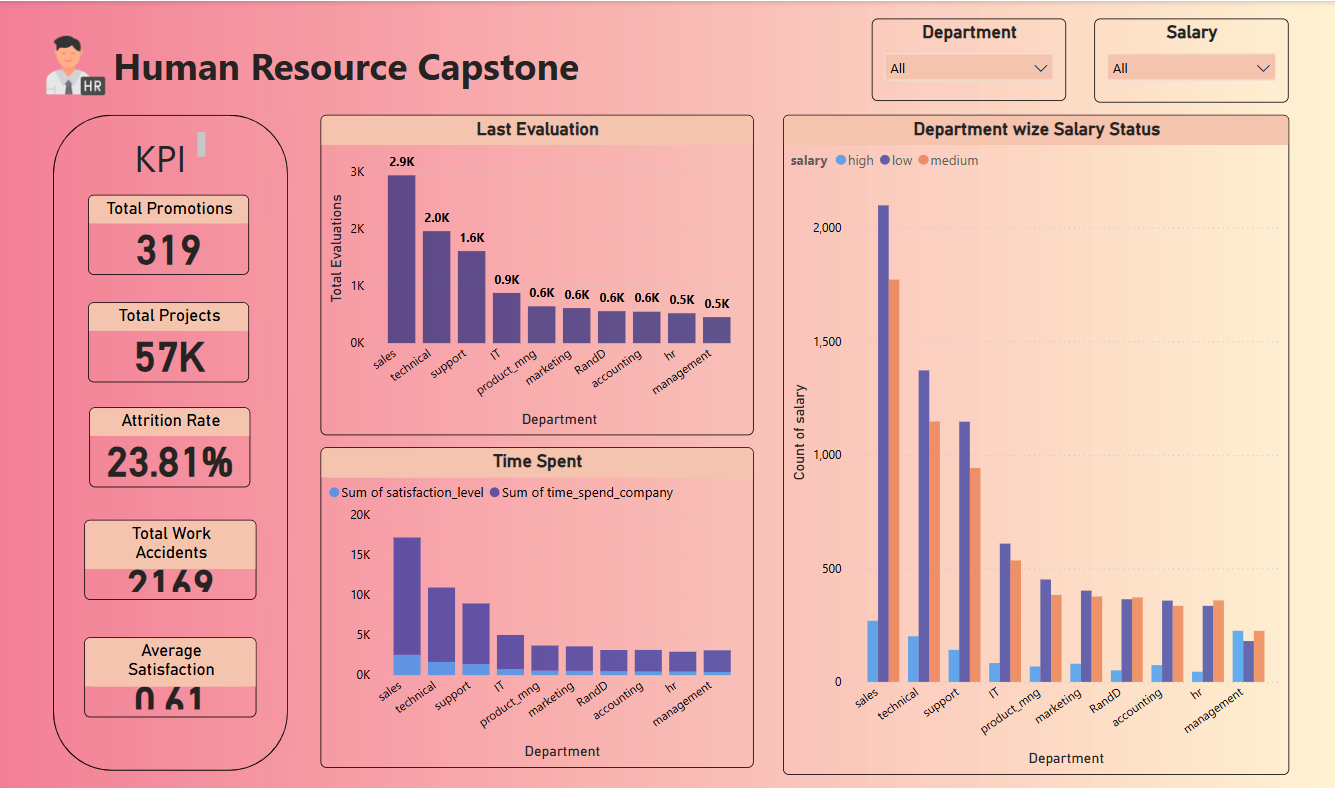

This screenshot's page, from the dashboard's own definition file:
{"tool":"powerbi","page":{"name":"Analysis","canvas":[1350,800],"ordinal":0},"visuals":[{"type":"textbox","box":[111.1,35.7,505,79.6],"z":0},{"type":"image","box":[39.7,30.4,79.3,70.1],"z":1000},{"type":"clusteredColumnChart","title":"Department wize Salary Status","fields":{"Category":["HR_capstone_dataset.Department"],"Y":["CountNonNull(HR_capstone_dataset.salary)"],"Series":["HR_capstone_dataset.salary"]},"box":[790.9,115.1,510.5,665.2],"z":2000},{"type":"columnChart","title":"Time Spent","fields":{"Category":["HR_capstone_dataset.Department"],"Y":["Sum(HR_capstone_dataset.satisfaction_level)","Sum(HR_capstone_dataset.time_spend_company)"]},"box":[324.7,449.6,436.4,323.3],"z":3000},{"type":"card","title":"Total Promotions","fields":{"Values":["Sum(HR_capstone_dataset.promotion_last_5years)"]},"box":[90.7,195.3,162.6,80.7],"z":4000},{"type":"textbox","box":[127.3,128.5,109.6,58],"z":5000},{"type":"shape","box":[54.2,114.7,236.9,661.6],"z":6000},{"type":"card","title":"Total Work Accidents","fields":{"Values":["Sum(HR_capstone_dataset.Work_accident)"]},"box":[87,514.2,173.9,97],"z":7000},{"type":"card","title":"Attrition Rate","fields":{"Values":["HR_capstone_dataset.Attrition"]},"box":[92,409.6,162.6,80.7],"z":8000},{"type":"card","title":"Total Projects","fields":{"Values":["Sum(HR_capstone_dataset.number_project)"]},"box":[90.7,303.7,162.6,80.7],"z":9000},{"type":"card","title":"Average Satisfaction","fields":{"Values":["Avg(HR_capstone_dataset.satisfaction_level)"]},"box":[87,641.5,173.9,98.3],"z":10000},{"type":"columnChart","title":"Last Evaluation","fields":{"Category":["HR_capstone_dataset.Department"],"Y":["Sum(HR_capstone_dataset.last_evaluation)"]},"box":[324.7,114.6,436.4,323.3],"z":11000},{"type":"slicer","title":"Salary","fields":{"Values":["HR_capstone_dataset.salary"]},"box":[1105.6,17.2,195.7,84.6],"z":12000},{"type":"slicer","title":"Department","fields":{"Values":["HR_capstone_dataset.Department"]},"box":[880.8,17.2,195.7,83.3],"z":13000}]}

Visuals, with their boxes in screenshot pixels (x1, y1, x2, y2), scaled from the page's 1350x800 canvas onto the 1335x788 screenshot:
textbox: 110,35,609,114
image: 39,30,118,99
"Department wize Salary Status" clusteredColumnChart: 782,113,1287,769
"Time Spent" columnChart: 321,443,753,761
"Total Promotions" card: 90,192,250,272
textbox: 126,127,234,184
shape: 54,113,288,765
"Total Work Accidents" card: 86,506,258,602
"Attrition Rate" card: 91,403,252,483
"Total Projects" card: 90,299,250,379
"Average Satisfaction" card: 86,632,258,729
"Last Evaluation" columnChart: 321,113,753,431
"Salary" slicer: 1093,17,1287,100
"Department" slicer: 871,17,1065,99
